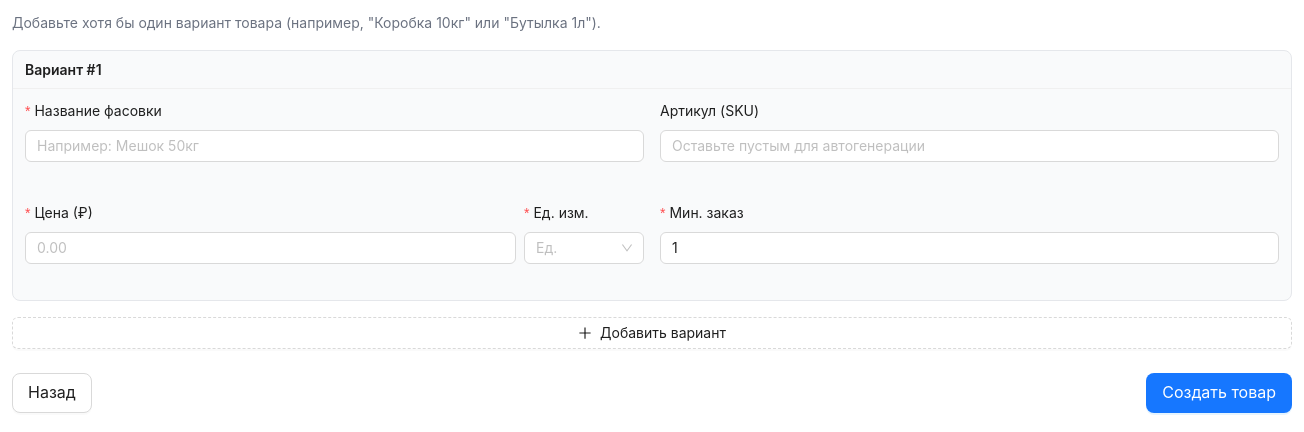
Scenario: Feature Unit: VariantsStep › should render initial variant form and load units
Expected: the field with placeholder "Например: Мешок 50кг" is shown, [25,130,644,162]
Expected: the field with placeholder "Оставьте пустым для автогенерации" is shown, [660,130,1279,162]
Открываем селект
Step 1. Press the mouse on the element showing "Ед." → point(584, 248), box [524,232,644,264]
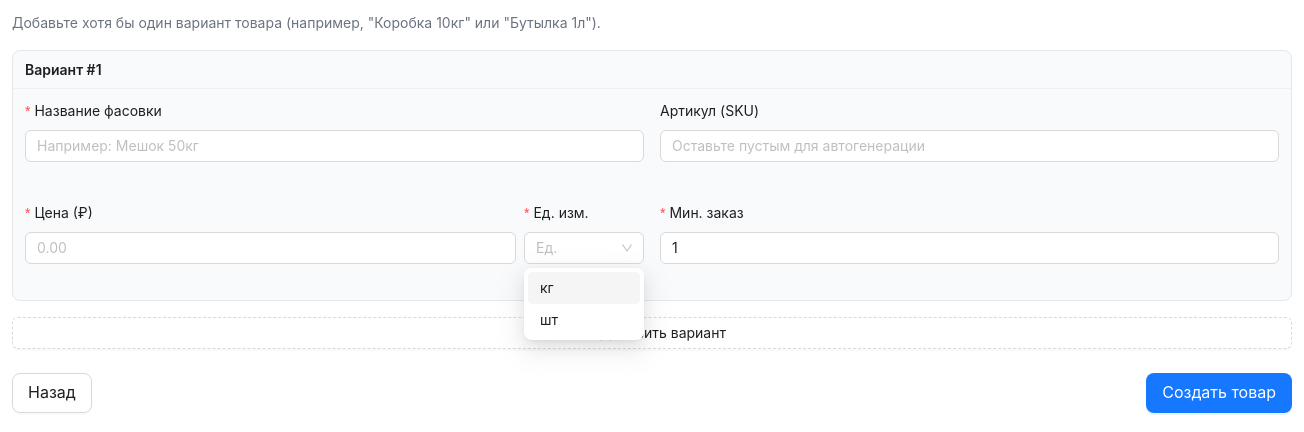
Expected: the text "кг" is shown, [540,279,554,296]
Expected: the text "шт" is shown, [540,311,558,328]
